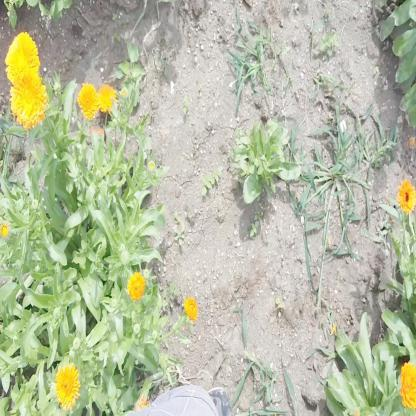marigold: (9, 64, 46, 125), (3, 32, 37, 80), (54, 363, 78, 407), (400, 365, 416, 407), (397, 180, 416, 212), (125, 272, 144, 303), (77, 85, 95, 115), (98, 86, 115, 111)
